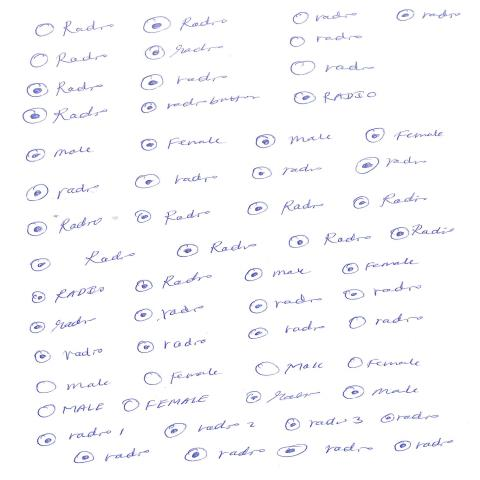Radio Button: (140, 94, 263, 114), (36, 426, 125, 446), (133, 272, 212, 294), (140, 71, 229, 90), (162, 420, 255, 438), (286, 230, 374, 249), (21, 105, 108, 124), (122, 393, 208, 412), (142, 14, 227, 33), (31, 284, 104, 306), (344, 280, 424, 300), (246, 319, 324, 339), (23, 182, 100, 202), (248, 293, 323, 313), (244, 196, 322, 215), (25, 216, 99, 236), (142, 42, 224, 60), (177, 239, 258, 257), (133, 172, 218, 189), (28, 50, 108, 68), (350, 191, 428, 209), (34, 20, 114, 37), (27, 315, 95, 335), (143, 367, 218, 385), (354, 156, 428, 174), (342, 256, 416, 274), (134, 303, 204, 322), (136, 336, 206, 355), (25, 80, 103, 97), (284, 416, 366, 432), (364, 127, 444, 143), (292, 90, 377, 105), (341, 384, 420, 400), (289, 60, 373, 75), (254, 359, 324, 377), (250, 163, 324, 180), (346, 313, 424, 329), (70, 448, 148, 464), (139, 136, 222, 151), (22, 145, 94, 162), (36, 400, 104, 418), (134, 208, 210, 224), (32, 378, 112, 393), (252, 133, 331, 148), (288, 32, 362, 48), (183, 447, 266, 461), (244, 389, 320, 404), (33, 347, 103, 363), (242, 266, 310, 282), (390, 224, 456, 240), (291, 10, 359, 25), (390, 437, 452, 452), (344, 357, 420, 368), (377, 412, 438, 423)
